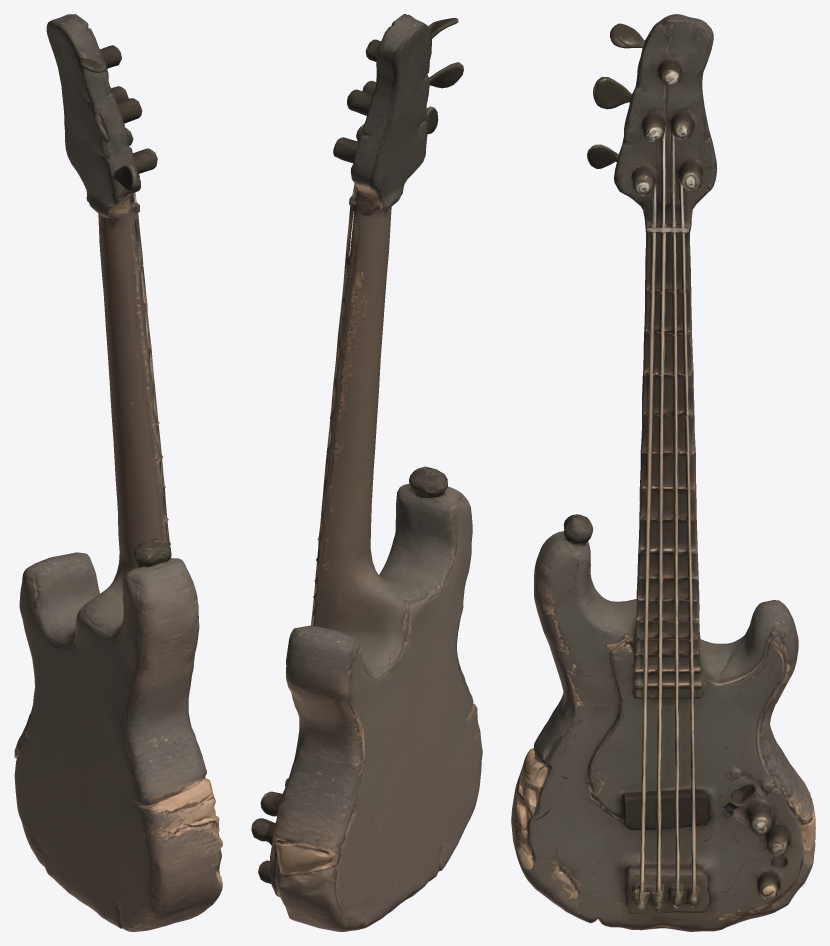
The model's file is bass.glb.
3 renders of one model, left to right at view 1: azimuth 30°, elevation 25°; view 2: azimuth 150°, elevation 25°; view 3: azimuth 270°, elevation 25°, orthographic.
Visible parts, largest first — view 1: tripo_node_f4117925-56d6-4939-8857-f4424c1d6eb0; view 2: tripo_node_f4117925-56d6-4939-8857-f4424c1d6eb0; view 3: tripo_node_f4117925-56d6-4939-8857-f4424c1d6eb0.
Part boxes in pixels (bbox=[...]): tripo_node_f4117925-56d6-4939-8857-f4424c1d6eb0: bbox=[14, 14, 222, 931]; tripo_node_f4117925-56d6-4939-8857-f4424c1d6eb0: bbox=[251, 14, 482, 931]; tripo_node_f4117925-56d6-4939-8857-f4424c1d6eb0: bbox=[511, 14, 815, 931].
Size of the model in its own units: 0.1493 by 1 by 0.3128.
Materials: 1 (1 with a texture image).
